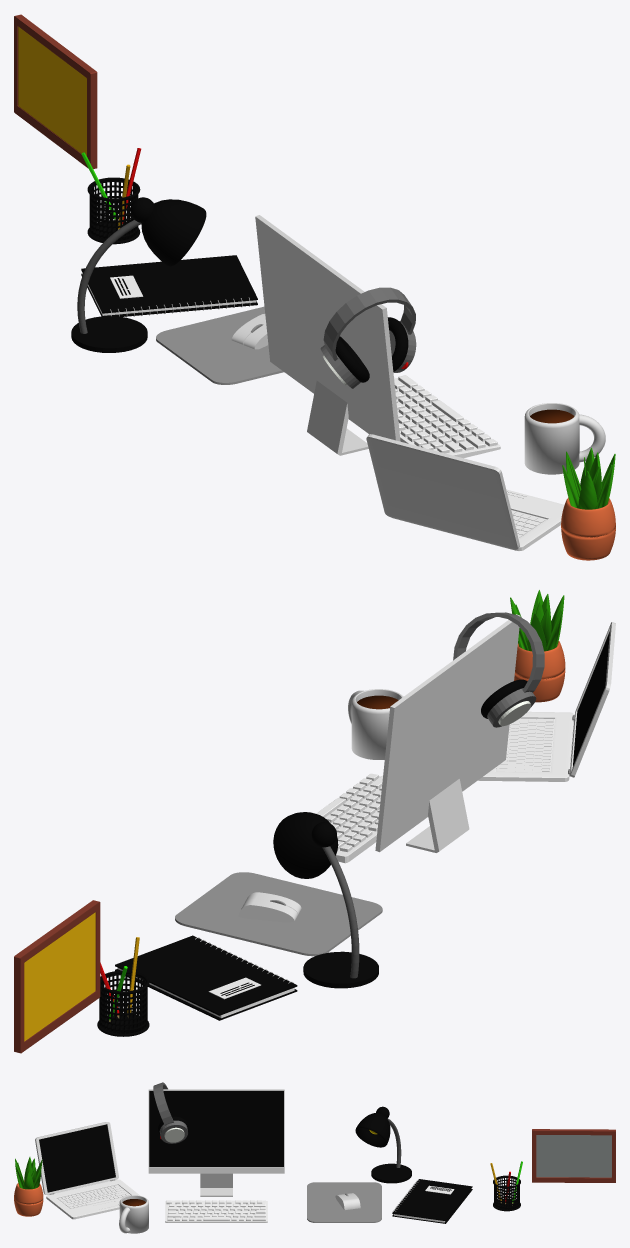
Rendered from Low_Poly_Office_Desk_Set_12_Models_Game_Read.glb.
The picture shows the model from 3 angles, top to bottom: view 1: azimuth 30°, elevation 25°; view 2: azimuth 150°, elevation 25°; view 3: azimuth 270°, elevation 25°; orthographic projection. The views are drawn at different scales.
Parts seen in each view (by area): view 1: Monitor_Material.085_0, Laptop_Scene_Material.081_0, Notebook_Material.091_0, 1, Photo_Frame_Material.130_0, Mousepad_Material.089_0, Coffee_Cup_Material.071_0, Photo_Frame_Material.128_0, Headphones_Material.077_0, Potted_Plant_Material.132_0, Pen_Holder_Material.121_0, Laptop_Keyboard__0 (+5 smaller); view 2: Monitor_Material.085_0, Mousepad_Material.089_0, Notebook_Material.091_0, Photo_Frame_Material.130_0, 1, Photo_Frame_Material.128_0, Pen_Holder_Material.121_0, Laptop_Keyboard__0, Headphones_Material.077_0, Coffee_Cup_Material.071_0, Potted_Plant_Material.132_0, Laptop_Scene_Material.082_0 (+5 smaller); view 3: Monitor_Material.086_0, Laptop_Scene_Material.082_0, Photo_Frame_Material.129_0, Mousepad_Material.089_0, Monitor_Material.085_0, Notebook_Material.091_0, 1, Photo_Frame_Material.128_0, Laptop_Keyboard__0, Coffee_Cup_Material.071_0, Keyboard__0, Laptop_Scene_Material.081_0 (+7 smaller).
Boxes of the visible parts, x1,y1,x2,y2 form: Monitor_Material.085_0: [255, 215, 400, 455]; Laptop_Scene_Material.081_0: [366, 434, 519, 549]; Notebook_Material.091_0: [81, 255, 257, 316]; 1: [71, 197, 206, 352]; Photo_Frame_Material.130_0: [18, 26, 86, 156]; Mousepad_Material.089_0: [156, 306, 283, 384]; Coffee_Cup_Material.071_0: [524, 403, 605, 474]; Photo_Frame_Material.128_0: [14, 14, 97, 168]; Headphones_Material.077_0: [320, 287, 416, 388]; Potted_Plant_Material.132_0: [561, 497, 615, 560]; Pen_Holder_Material.121_0: [87, 177, 140, 244]; Laptop_Keyboard__0: [393, 489, 564, 550]; Monitor_Material.085_0: [375, 614, 520, 852]; Mousepad_Material.089_0: [175, 872, 382, 956]; Notebook_Material.091_0: [115, 935, 297, 1020]; Photo_Frame_Material.130_0: [24, 912, 95, 1041]; 1: [273, 812, 378, 988]; Photo_Frame_Material.128_0: [14, 900, 100, 1053]; Pen_Holder_Material.121_0: [97, 970, 149, 1036]; Laptop_Keyboard__0: [478, 711, 573, 781]; Headphones_Material.077_0: [453, 612, 544, 727]; Coffee_Cup_Material.071_0: [348, 689, 403, 759]; Potted_Plant_Material.132_0: [514, 641, 565, 702]; Laptop_Scene_Material.082_0: [572, 631, 609, 767]; Monitor_Material.086_0: [149, 1091, 283, 1166]; Laptop_Scene_Material.082_0: [39, 1124, 115, 1192]; Photo_Frame_Material.129_0: [536, 1135, 611, 1177]; Mousepad_Material.089_0: [307, 1182, 381, 1222]; Monitor_Material.085_0: [148, 1089, 284, 1196]; Notebook_Material.091_0: [392, 1179, 472, 1223]; 1: [355, 1106, 411, 1183]; Photo_Frame_Material.128_0: [532, 1129, 615, 1182]; Laptop_Keyboard__0: [46, 1179, 140, 1219]; Coffee_Cup_Material.071_0: [119, 1195, 148, 1233]; Keyboard__0: [165, 1200, 267, 1222]; Laptop_Scene_Material.081_0: [35, 1122, 118, 1194].
Bounding box in the file's own units: 4.07 × 2.79 × 14.32.
